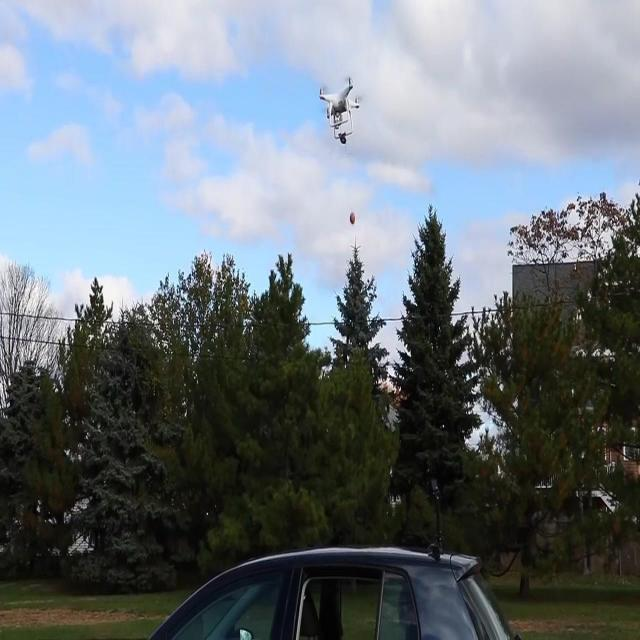UAV: (319, 76, 360, 146)
